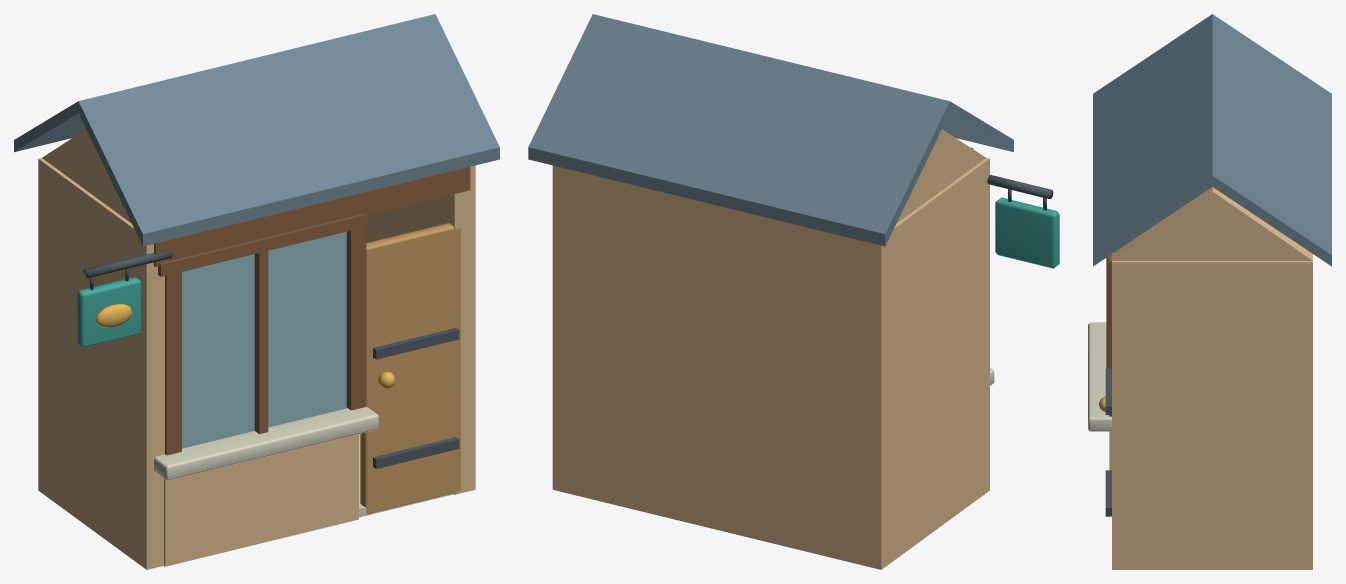
The model's file is shop_front.glb.
The picture shows the model from 3 angles, left to right: view 1: azimuth 30°, elevation 25°; view 2: azimuth 150°, elevation 25°; view 3: azimuth 270°, elevation 25°; orthographic projection. The views are drawn at different scales.
Parts seen in each view (by area): view 1: Shop thick slate roof, Shop left wall, glass_shop_display, Shop oak door, Shop display lower wall, Shop right wall, Shop front lintel, Shop display sill, Shop window right pier, Shop window left pier, move_sway_shop_sign, Shop window top frame (+7 smaller); view 2: Shop rear wall, Shop thick slate roof.001, Shop left wall, Shop right wall, move_sway_shop_sign, Shop gable infill, Shop thick slate roof, Shop hanging sign bracket; view 3: Shop right wall, Shop thick slate roof, Shop thick slate roof.001, Shop gable infill.001, Shop display sill, Shop centre window mullion, Shop door dark strap, Shop door dark strap.001.
Part boxes in pixels (box(x1,y1,x2,y2)): Shop thick slate roof: box(78, 14, 499, 246); Shop left wall: box(38, 158, 164, 569); glass_shop_display: box(182, 231, 346, 448); Shop oak door: box(360, 223, 460, 514); Shop display lower wall: box(164, 434, 358, 566); Shop right wall: box(366, 165, 475, 494); Shop front lintel: box(154, 167, 470, 266); Shop display sill: box(154, 406, 378, 480); Shop window right pier: box(346, 199, 366, 410); Shop window left pier: box(165, 238, 181, 455); move_sway_shop_sign: box(77, 277, 141, 347); Shop window top frame: box(158, 213, 366, 276); Shop rear wall: box(564, 170, 864, 564); Shop thick slate roof.001: box(528, 14, 949, 246); Shop left wall: box(860, 158, 989, 569); Shop right wall: box(552, 165, 573, 494); move_sway_shop_sign: box(995, 197, 1059, 268); Shop gable infill: box(896, 129, 985, 223); Shop thick slate roof: box(942, 101, 1013, 151); Shop hanging sign bracket: box(987, 174, 1053, 198); Shop right wall: box(1112, 253, 1312, 569); Shop thick slate roof: box(1093, 14, 1212, 266); Shop thick slate roof.001: box(1212, 14, 1331, 266); Shop gable infill.001: box(1112, 187, 1312, 260); Shop display sill: box(1088, 322, 1111, 431); Shop centre window mullion: box(1106, 256, 1108, 368); Shop door dark strap: box(1105, 470, 1111, 516); Shop door dark strap.001: box(1105, 369, 1111, 414).
Size of the model in its own units: 3.5 by 3.52 by 1.94.
